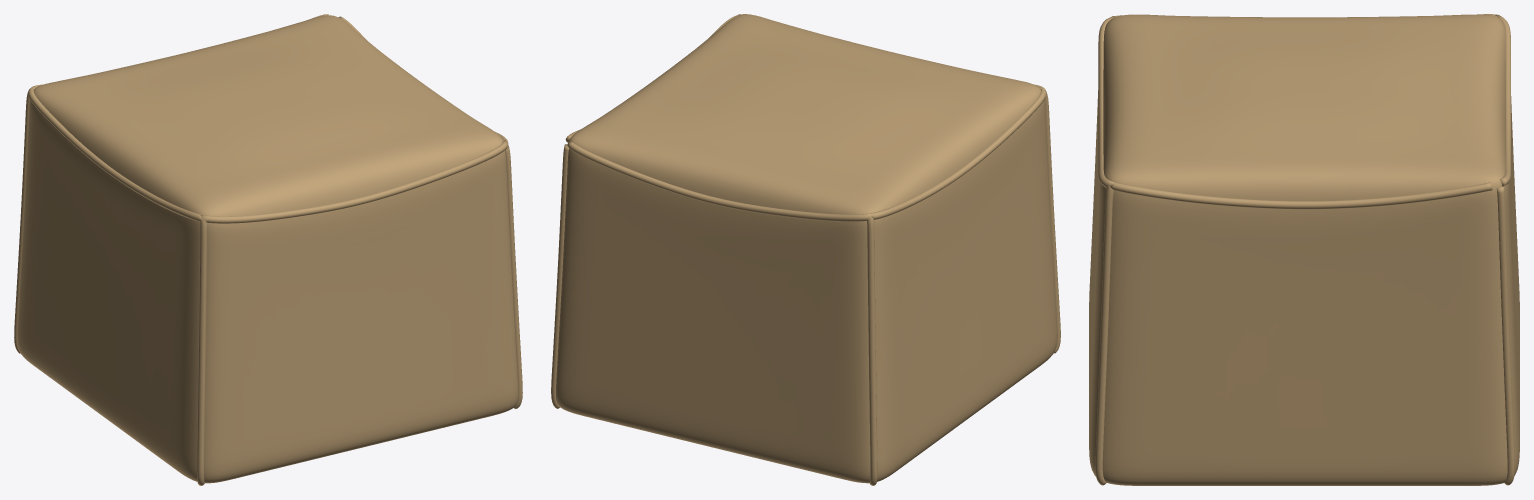
Rendered from pufe-albany.glb.
3 renders of one model, left to right at view 1: azimuth 30°, elevation 25°; view 2: azimuth 150°, elevation 25°; view 3: azimuth 270°, elevation 25°, orthographic. The views are drawn at different scales.
Bounding box in the file's own units: 0.5275 × 0.4282 × 0.5274.
